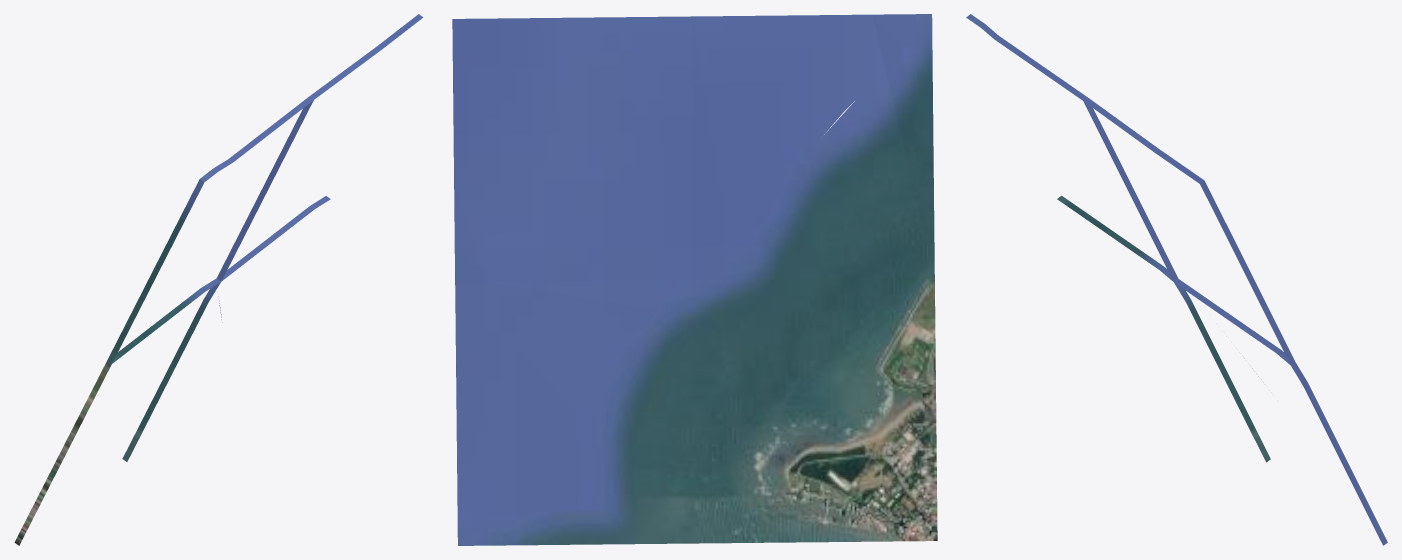
3 renders of one model, left to right at view 1: azimuth 30°, elevation 25°; view 2: azimuth 150°, elevation 25°; view 3: azimuth 270°, elevation 25°, orthographic. The views are drawn at different scales.
Bounding box in the file's own units: 4916 × 4446 × 4115.
1 material, 1 textured.
